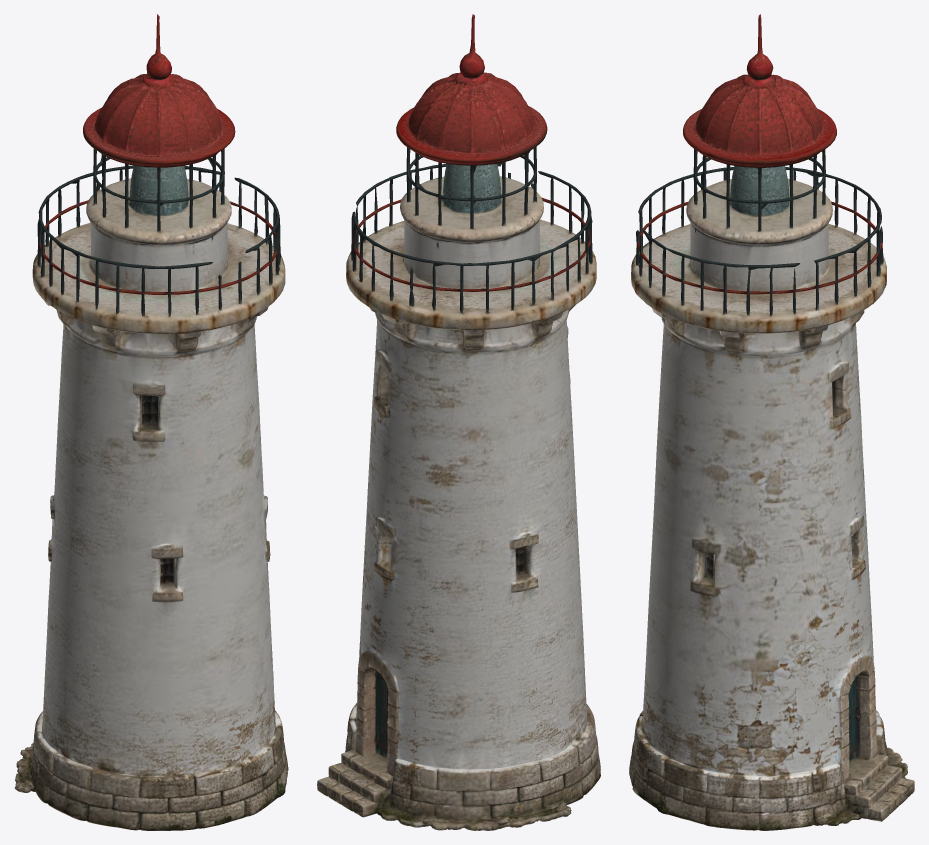
File: prop_lighthouse.glb
The picture shows the model from 3 angles, left to right: view 1: azimuth 30°, elevation 25°; view 2: azimuth 150°, elevation 25°; view 3: azimuth 270°, elevation 25°; orthographic projection.
Visible parts, largest first — view 1: tripo_node_ed701fac-f0b4-41ee-a986-6e5fb1e46b90; view 2: tripo_node_ed701fac-f0b4-41ee-a986-6e5fb1e46b90; view 3: tripo_node_ed701fac-f0b4-41ee-a986-6e5fb1e46b90.
Part boxes in pixels (x1,y1,x2,y2): tripo_node_ed701fac-f0b4-41ee-a986-6e5fb1e46b90: (14, 14, 288, 830); tripo_node_ed701fac-f0b4-41ee-a986-6e5fb1e46b90: (317, 14, 600, 830); tripo_node_ed701fac-f0b4-41ee-a986-6e5fb1e46b90: (629, 14, 914, 830).
Size of the model in its own units: 0.3162 by 0.9833 by 0.3333.
Materials: 1 (1 with a texture image).
